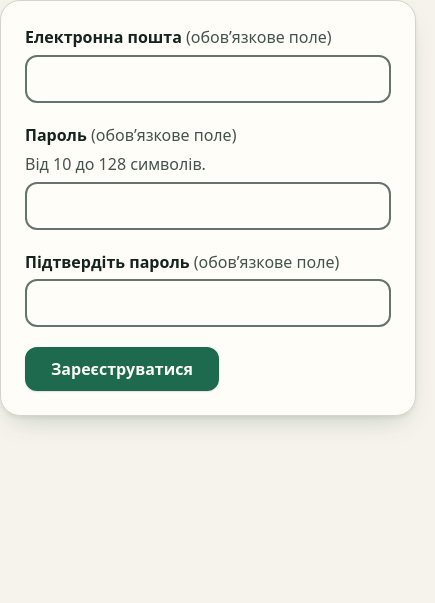
Scenario: AuthForm › reports a malformed email and a short password
Type "not-an-email" into the field labelled "Електронна пошта (обов’язкове поле)" at (208, 79), box [25, 55, 391, 103]
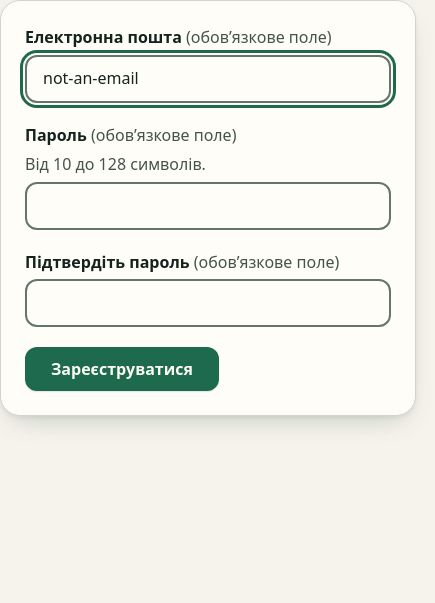
Type "123456789" into the password field labelled "Пароль (обов’язкове поле)" at (208, 206), box [25, 182, 391, 230]
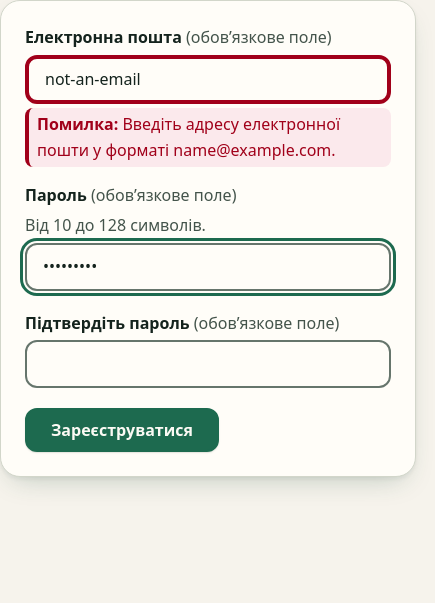
Click the button "Зареєструватися" at (122, 430), box [25, 408, 219, 452]
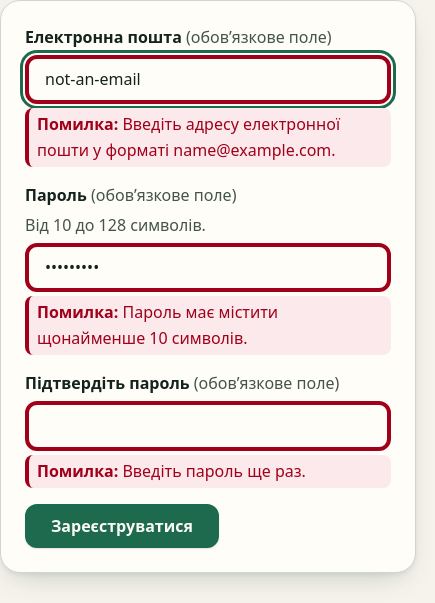
Expected: the text "Введіть адресу електронної пошти у форматі name@example.com." is shown, [37, 113, 340, 161]
Expected: the text "Пароль має містити щонайменше 10 символів." is shown, [37, 301, 278, 349]
